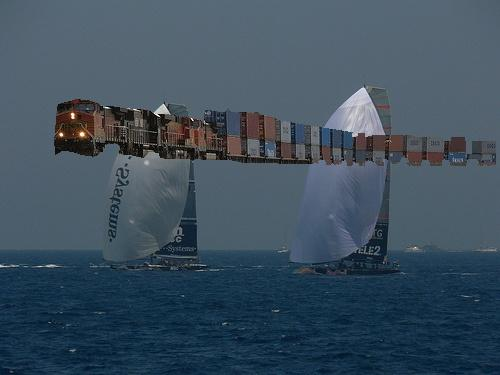tampered: (55, 100, 496, 166)
